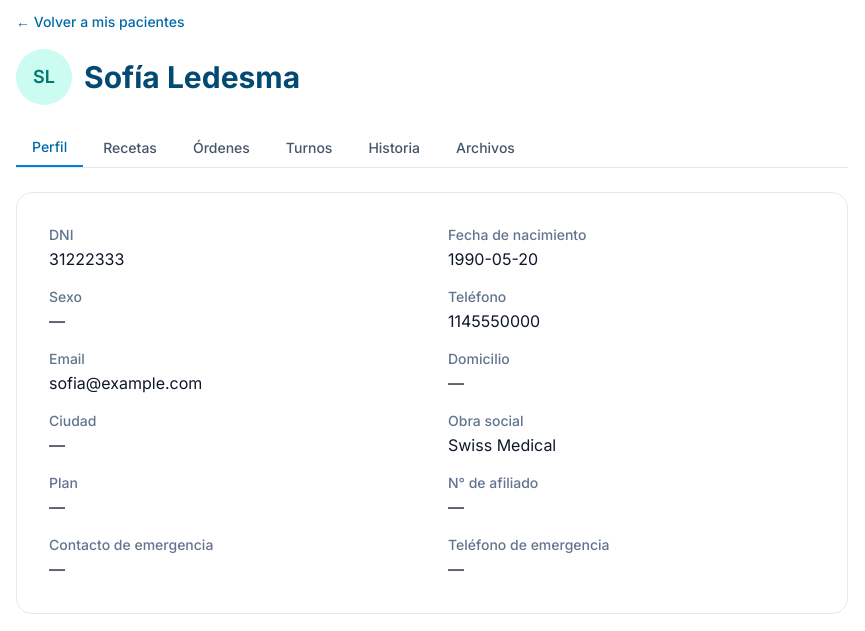
Test case: DoctorPatientDetailPage › trae los turnos del paciente desde el endpoint por paciente
Expected: the heading "Sofía Ledesma" is shown, [84, 59, 300, 95]
Click the tab "Turnos" at (309, 148), box [270, 129, 348, 167]
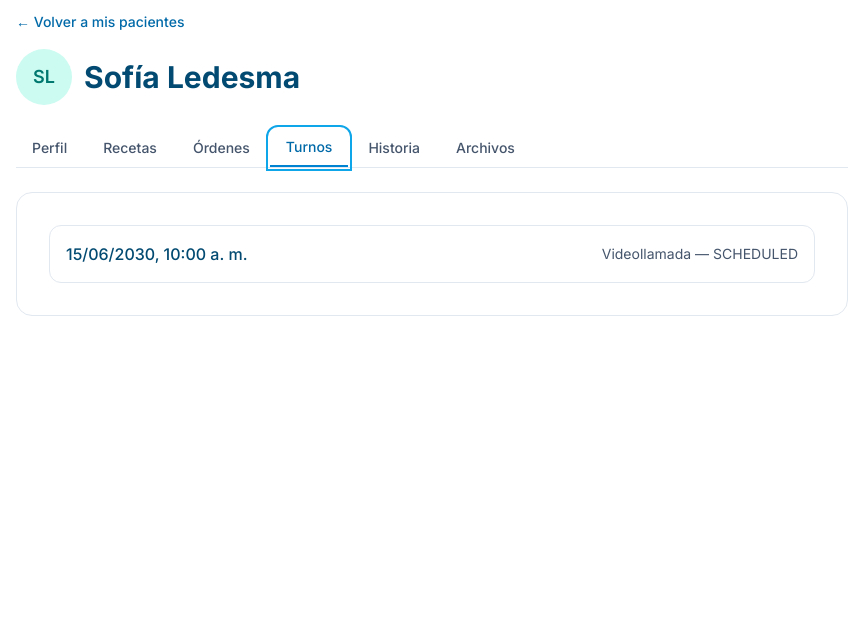
Result: the text "Videollamada — SCHEDULED" is shown at [602, 244, 798, 264]
